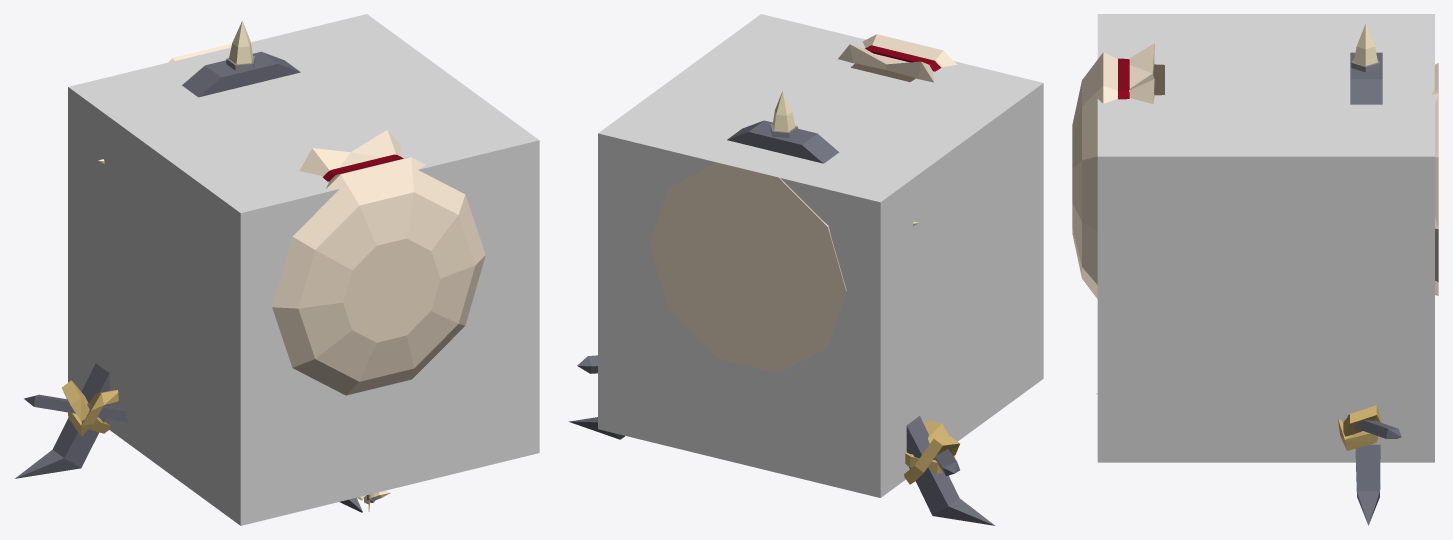
File: orc_drum_1.glb
3 renders of one model, left to right at view 1: azimuth 30°, elevation 25°; view 2: azimuth 150°, elevation 25°; view 3: azimuth 270°, elevation 25°, orthographic. The views are drawn at different scales.
Parts seen in each view (by area): view 1: Cube, drum_1; view 2: Cube, drum_1; view 3: Cube, drum_1.
Part boxes in pixels (box(x1,y1,x2,y2)): Cube: box(68, 14, 539, 525); drum_1: box(15, 21, 485, 512); Cube: box(598, 14, 1043, 497); drum_1: box(569, 34, 995, 525); Cube: box(1097, 14, 1434, 462); drum_1: box(1072, 23, 1438, 525).
Bounding box in the file's own units: 1.69 × 1.44 × 1.21.
Materials: 1 (1 with a texture image).
